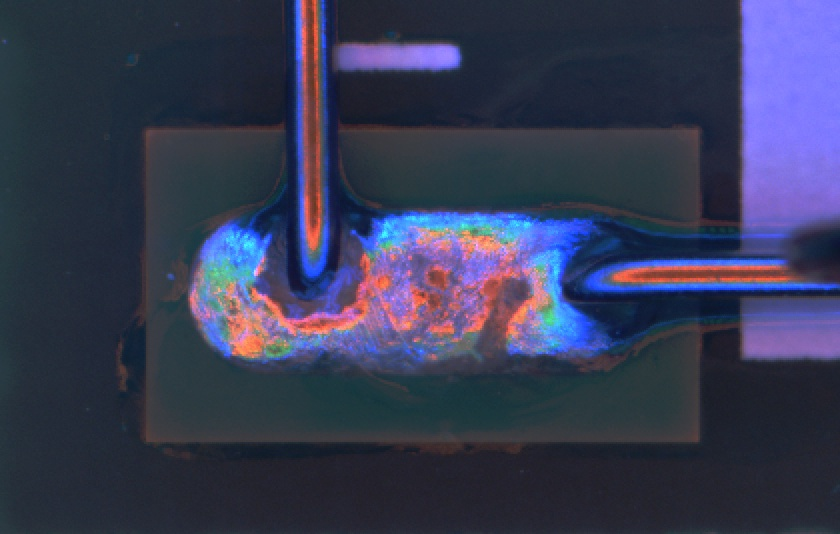spring: (537, 236, 840, 314), (278, 1, 337, 299)
spring_pin: (186, 209, 666, 375)
